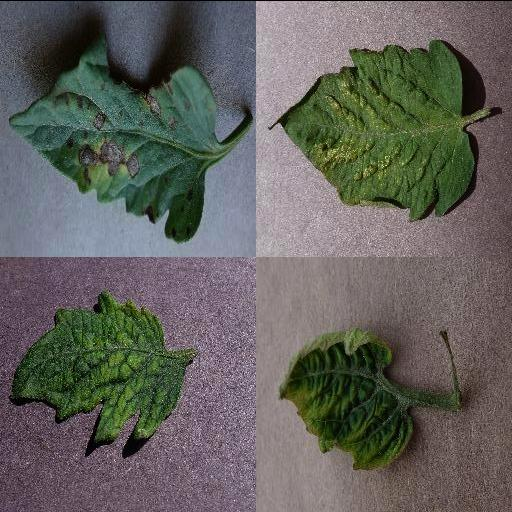Early Blight: (7, 33, 219, 241)
Mosaic Virus: (7, 291, 185, 442)
Spider Mites: (273, 39, 475, 221)
Yellow Leaf Curl Virus: (278, 325, 414, 469)
